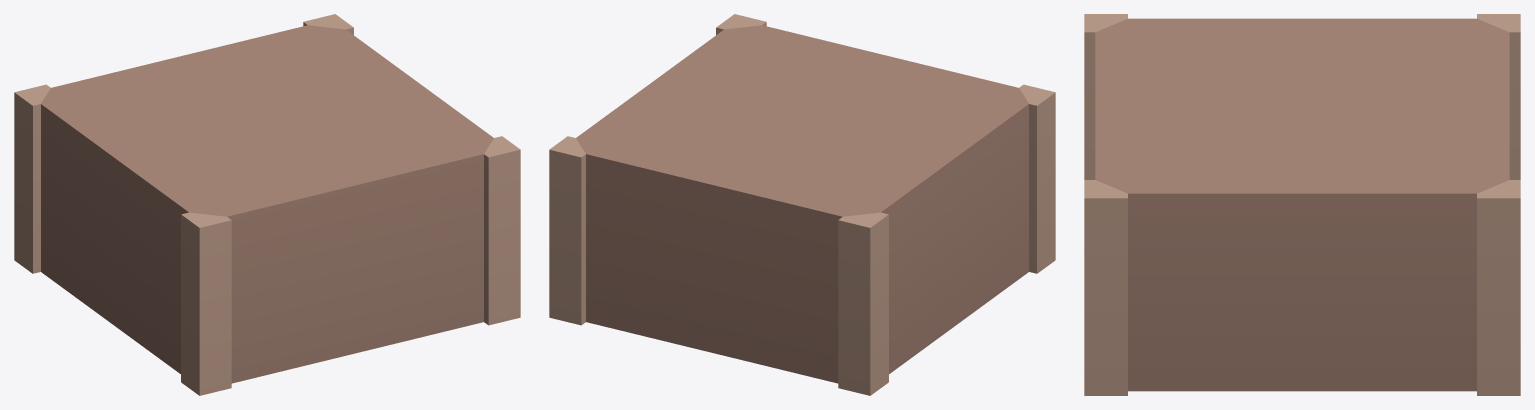
Rendered from wall-wood-block-half.glb.
3 views of the same model, side by side, from view 1: azimuth 30°, elevation 25°; view 2: azimuth 150°, elevation 25°; view 3: azimuth 270°, elevation 25° (orthographic). The views are drawn at different scales.
Visible parts, largest first — view 1: wall-wood-block-half; view 2: wall-wood-block-half; view 3: wall-wood-block-half.
Boxes of the visible parts, box(x1,y1,x2,y2) form: wall-wood-block-half: box(14, 14, 520, 395); wall-wood-block-half: box(549, 14, 1055, 395); wall-wood-block-half: box(1084, 14, 1520, 395).
Size of the model in its own units: 1 by 0.5 by 1.
